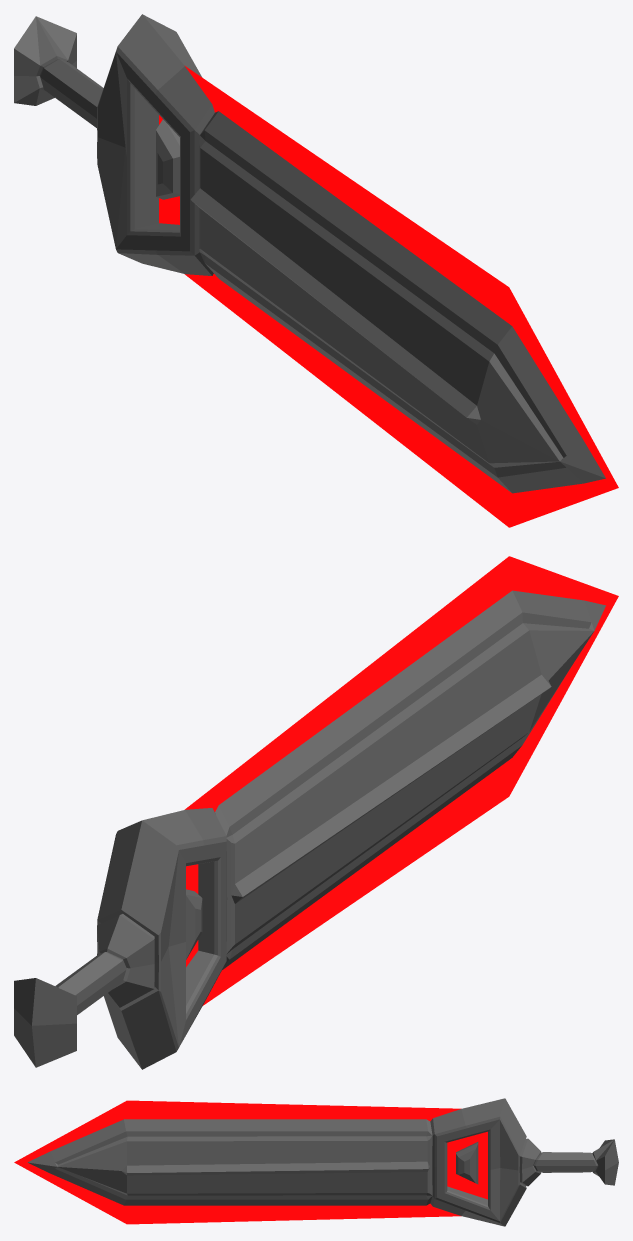
File: GreatSword.glb
3 renders of one model, top to bottom at view 1: azimuth 30°, elevation 25°; view 2: azimuth 150°, elevation 25°; view 3: azimuth 270°, elevation 25°, orthographic. The views are drawn at different scales.
Visible parts, largest first — view 1: Weapon; view 2: Weapon; view 3: Weapon.
Boxes of the visible parts, x1=… form: Weapon: x1=14, y1=14, x2=618, y2=527; Weapon: x1=14, y1=556, x2=618, y2=1069; Weapon: x1=14, y1=1098, x2=618, y2=1226.
Size of the model in its own units: 0.1267 by 0.3559 by 1.52.
